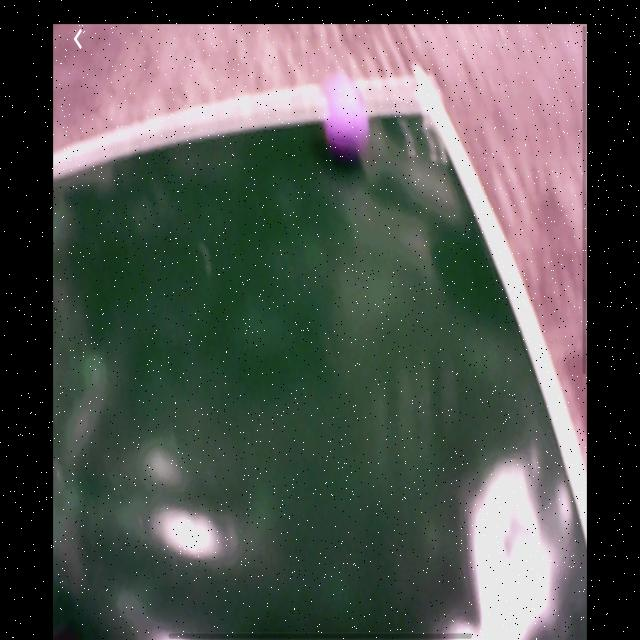ball: (321, 69, 371, 163)
